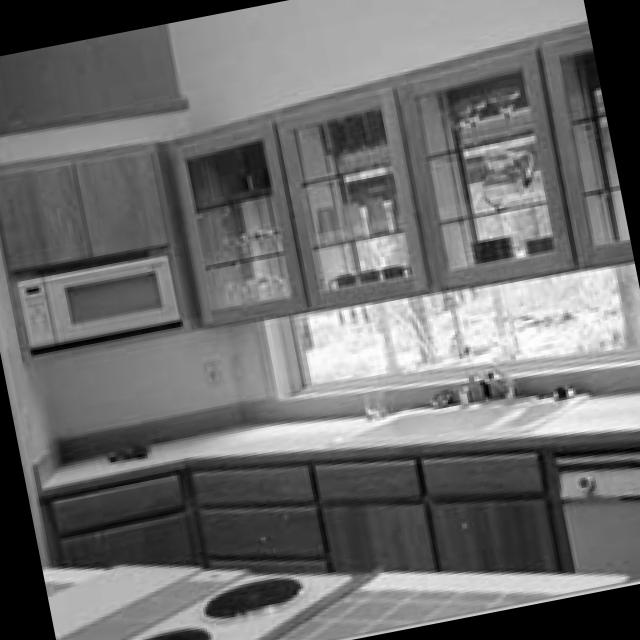2001: (294, 259, 640, 390)
cabinet door: (0, 135, 179, 270), (46, 466, 205, 562), (194, 460, 330, 568)
cabinets: (163, 18, 634, 324), (317, 447, 569, 568)
counter bottom: (47, 388, 640, 485), (47, 563, 629, 640)
dishwasher: (557, 447, 640, 577)
glass ceiling: (369, 190, 391, 232), (341, 198, 367, 233), (318, 205, 343, 241), (365, 389, 387, 417)
glasses -X: (437, 80, 521, 138), (215, 221, 288, 259), (223, 269, 292, 303)
microwave oven: (24, 250, 184, 344)
mug: (222, 163, 254, 188)
mugs: (329, 259, 412, 285)
pitcher: (480, 142, 539, 203)
pot hanger: (474, 229, 516, 262)
sink basin: (326, 389, 591, 441)
sink occluded: (476, 358, 518, 396)
stove burner: (121, 570, 369, 640)
wall outlets: (207, 351, 230, 381)
